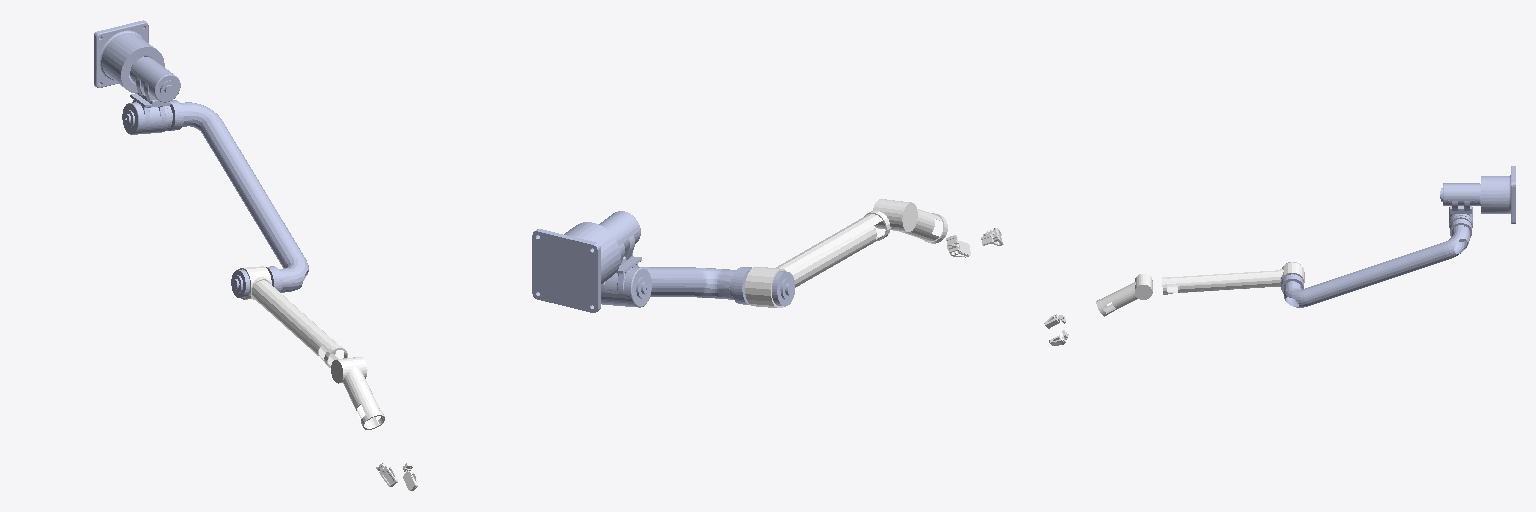
robot.urdf — starlink_space_manipulator_merged.SLDASM9:
<?xml version='1.0' encoding='utf-8'?>
<robot name="starlink_space_manipulator_merged.SLDASM9">
  <link name="starlink_space_manipulator_base_link">
    <inertial>
      <origin xyz="-0.00908719924946466 0.0225428225681148 -0.00851924929637313" rpy="0 0 0" />
      <mass value="8.66024015898073" />
      <inertia ixx="0.0960303512697639" ixy="1.65511904636803E-18" ixz="6.22039820639877E-19" iyy="0.103454922260914" iyz="-9.68471289978311E-19" izz="0.0960303512697639" />
    </inertial>
    <visual>
      <origin xyz="0 0 0" rpy="0 0 0" />
      <geometry>
        <mesh filename="meshes/starlink_space_manipulator_base_link.STL" />
      </geometry>
      <material name="">
        <color rgba="0.792156862745098 0.819607843137255 0.933333333333333 1" />
      </material>
    </visual>
    <collision>
      <origin xyz="0 0 0" rpy="0 0 0" />
      <geometry>
        <mesh filename="meshes/starlink_space_manipulator_base_link.STL" />
      </geometry>
    </collision>
  </link>
  <link name="starlink_space_manipulator_Shoulder_link_1">
    <inertial>
      <origin xyz="-0.000399471745595769 -0.100006574194712 -0.17423940484461" rpy="0 0 0" />
      <mass value="5.16309216784981" />
      <inertia ixx="0.0524543852135592" ixy="0.00348154867667969" ixz="6.96526910910627E-05" iyy="0.0306595326318824" iyz="-0.00056674368052247" izz="0.0439979075615329" />
    </inertial>
    <visual>
      <origin xyz="0 0 0" rpy="0 0 0" />
      <geometry>
        <mesh filename="meshes/starlink_space_manipulator_Shoulder_link_1.STL" />
      </geometry>
      <material name="">
        <color rgba="0.792156862745098 0.819607843137255 0.933333333333333 1" />
      </material>
    </visual>
    <collision>
      <origin xyz="0 0 0" rpy="0 0 0" />
      <geometry>
        <mesh filename="meshes/starlink_space_manipulator_Shoulder_link_1.STL" />
      </geometry>
    </collision>
  </link>
  <joint name="starlink_space_manipulator_Shoulder_link_1_yaw" type="revolute">
    <origin xyz="-0.0090872 -0.065 -0.0085192" rpy="1.5708 -0.15574 3.1416" />
    <parent link="starlink_space_manipulator_base_link" />
    <child link="starlink_space_manipulator_Shoulder_link_1" />
    <axis xyz="0 0 -1" />
    <limit lower="-3.14" upper="3.14" effort="0" velocity="0" />
  </joint>
  <link name="starlink_space_manipulator_Upper_arm_Link_1">
    <inertial>
      <origin xyz="0.402106341472203 -0.696465272634528 -0.170177523085579" rpy="0 0 0" />
      <mass value="5.05309869040685" />
      <inertia ixx="0.388719013133801" ixy="0.210155896498943" ixz="9.30829370680679E-08" iyy="0.146049057575642" iyz="1.71830458004218E-07" izz="0.500677708275447" />
    </inertial>
    <visual>
      <origin xyz="0 0 0" rpy="0 0 0" />
      <geometry>
        <mesh filename="meshes/starlink_space_manipulator_Upper_arm_Link_1.STL" />
      </geometry>
      <material name="">
        <color rgba="0.792156862745098 0.819607843137255 0.933333333333333 1" />
      </material>
    </visual>
    <collision>
      <origin xyz="0 0 0" rpy="0 0 0" />
      <geometry>
        <mesh filename="meshes/starlink_space_manipulator_Upper_arm_Link_1.STL" />
      </geometry>
    </collision>
  </link>
  <joint name="starlink_space_manipulator_Upper_arm_Link_1_roll" type="revolute">
    <origin xyz="0 -0.2 -0.18" rpy="1.5708 0.90646 1.5708" />
    <parent link="starlink_space_manipulator_Shoulder_link_1" />
    <child link="starlink_space_manipulator_Upper_arm_Link_1" />
    <axis xyz="0 0 -1" />
    <limit lower="-2" upper="1.5" effort="0" velocity="0" />
  </joint>
  <link name="starlink_space_manipulator_Mid_arm_Link_1">
    <inertial>
      <origin xyz="-0.000406052776441013 0.317722269561105 0.0155331755135703" rpy="0 0 0" />
      <mass value="1.57635531881168" />
      <inertia ixx="0.133610363618846" ixy="5.33750993405138E-05" ixz="-3.60473795202962E-09" iyy="0.00502119434334708" iyz="-2.514275749911E-05" izz="0.134586018527477" />
    </inertial>
    <visual>
      <origin xyz="0 0 0" rpy="0 0 0" />
      <geometry>
        <mesh filename="meshes/starlink_space_manipulator_Mid_arm_Link_1.STL" />
      </geometry>
      <material name="">
        <color rgba="1 1 1 1" />
      </material>
    </visual>
    <collision>
      <origin xyz="0 0 0" rpy="0 0 0" />
      <geometry>
        <mesh filename="meshes/starlink_space_manipulator_Mid_arm_Link_1.STL" />
      </geometry>
    </collision>
  </link>
  <joint name="starlink_space_manipulator_Mid_arm_Link_1_roll" type="revolute">
    <origin xyz="0.599999999999673 -1.03923048454122 0" rpy="-3.14159265358979 0 0.828250280535091" />
    <parent link="starlink_space_manipulator_Upper_arm_Link_1" />
    <child link="starlink_space_manipulator_Mid_arm_Link_1" />
    <axis xyz="0 0 -1" />
    <limit lower="-3.14" upper="3.14" effort="0" velocity="0" />
  </joint>
  <link name="starlink_space_manipulator_Upper_wrist_Link_1">
    <inertial>
      <origin xyz="-0.000400003664721815 -0.201565878030355 -0.00216705855311664" rpy="0 0 0" />
      <mass value="0.994770641034713" />
      <inertia ixx="0.00165409639029414" ixy="-7.59103925411082E-06" ixz="-3.17403155320863E-06" iyy="0.00201437937768072" iyz="2.63246464091218E-06" izz="0.00159638838344539" />
    </inertial>
    <visual>
      <origin xyz="0 0 0" rpy="0 0 0" />
      <geometry>
        <mesh filename="meshes/starlink_space_manipulator_Upper_wrist_Link_1.STL" />
      </geometry>
      <material name="">
        <color rgba="0.792156862745098 0.819607843137255 0.933333333333333 1" />
      </material>
    </visual>
    <collision>
      <origin xyz="0 0 0" rpy="0 0 0" />
      <geometry>
        <mesh filename="meshes/starlink_space_manipulator_Upper_wrist_Link_1.STL" />
      </geometry>
    </collision>
  </link>
  <joint name="starlink_space_manipulator_Upper_wrist_Link_1_yaw" type="revolute">
    <origin xyz="-0.00050155183276912 0.686793643713439 0.0155010481432086" rpy="0 -0.0763876794035917 3.14159265358979" />
    <parent link="starlink_space_manipulator_Mid_arm_Link_1" />
    <child link="starlink_space_manipulator_Upper_wrist_Link_1" />
    <axis xyz="0 -1 0" />
    <limit lower="-3.14" upper="3.14" effort="0" velocity="0" />
  </joint>
  <link name="starlink_space_manipulator_Upper_wrist_Link_2">
    <inertial>
      <origin xyz="8.45304168883843E-08 0.0848318719623631 -0.00515657391755576" rpy="0 0 0" />
      <mass value="1.03716823037577" />
      <inertia ixx="0.0100970561498589" ixy="1.32295633551837E-09" ixz="-9.43675929999229E-09" iyy="0.00222325407426665" iyz="-2.08772874866187E-06" izz="0.0105840577017538" />
    </inertial>
    <visual>
      <origin xyz="0 0 0" rpy="0 0 0" />
      <geometry>
        <mesh filename="meshes/starlink_space_manipulator_Upper_wrist_Link_2.STL" />
      </geometry>
      <material name="">
        <color rgba="1 1 1 1" />
      </material>
    </visual>
    <collision>
      <origin xyz="0 0 0" rpy="0 0 0" />
      <geometry>
        <mesh filename="meshes/starlink_space_manipulator_Upper_wrist_Link_2.STL" />
      </geometry>
    </collision>
  </link>
  <joint name="starlink_space_manipulator_Upper_wrist_Link_2_roll" type="revolute">
    <origin xyz="0 -0.30020635628656 0" rpy="-0.0158640776811277 -0.0317448426184613 -2.67805461574742" />
    <parent link="starlink_space_manipulator_Upper_wrist_Link_1" />
    <child link="starlink_space_manipulator_Upper_wrist_Link_2" />
    <axis xyz="0 0 1" />
    <limit lower="-2.5" upper="1.8" effort="0" velocity="0" />
  </joint>
  <link name="starlink__space_manipulator_2F-Body_Link">
    <inertial>
      <origin xyz="0.000132893636818288 -0.122912145301831 0.000141178527731878" rpy="0 0 0" />
      <mass value="2.06098061435798" />
      <inertia ixx="0.00357820981002093" ixy="-9.7173781739015E-06" ixz="-0.000377950837415894" iyy="0.00540179107539635" iyz="3.57093943209629E-06" izz="0.0050632324449311" />
    </inertial>
    <visual>
      <origin xyz="0 0 0" rpy="0 0 0" />
      <geometry>
        <mesh filename="meshes/starlink__space_manipulator_2F-Body_Link.STL" />
      </geometry>
      <material name="">
        <color rgba="0.792156862745098 0.819607843137255 0.933333333333333 1" />
      </material>
    </visual>
    <collision>
      <origin xyz="0 0 0" rpy="0 0 0" />
      <geometry>
        <mesh filename="meshes/starlink__space_manipulator_2F-Body_Link.STL" />
      </geometry>
    </collision>
  </link>
  <joint name="starlink__space_manipulator_2F-Body_Link_yaw" type="revolute">
    <origin xyz="0 0.34845 -0.0053813" rpy="-3.1416 0.93592 0" />
    <parent link="starlink_space_manipulator_Upper_wrist_Link_2" />
    <child link="starlink__space_manipulator_2F-Body_Link" />
    <axis xyz="0 -1 0" />
    <limit lower="-3.14" upper="3.14" effort="0" velocity="0" />
  </joint>
  <link name="starlink_space_manipulator_Finger1_2_Link">
    <inertial>
      <origin xyz="-0.128379781160824 0.00213384929263816 0.20765530277947" rpy="0 0 0" />
      <mass value="0.164012557851557" />
      <inertia ixx="0.000137377814382494" ixy="5.75324125943043E-07" ixz="1.56204374379134E-05" iyy="0.000128174497717794" iyz="2.8915711708103E-06" izz="5.56877077151319E-05" />
    </inertial>
    <visual>
      <origin xyz="0 0 0" rpy="0 0 0" />
      <geometry>
        <mesh filename="meshes/starlink_space_manipulator_Finger1_2_Link.STL" />
      </geometry>
      <material name="">
        <color rgba="1 1 1 1" />
      </material>
    </visual>
    <collision>
      <origin xyz="0 0 0" rpy="0 0 0" />
      <geometry>
        <mesh filename="meshes/starlink_space_manipulator_Finger1_2_Link.STL" />
      </geometry>
    </collision>
  </link>
  <joint name="starlink_space_manipulator_Finger1_2_Link_roll" type="prismatic">
    <origin xyz="-0.2017 -0.10916 -0.04801" rpy="-1.5708 0.22747 -3.1416" />
    <parent link="starlink__space_manipulator_2F-Body_Link" />
    <child link="starlink_space_manipulator_Finger1_2_Link" />
    <axis xyz="-1 0 0" />
    <limit lower="0.0" upper="0.04" effort="20" velocity="0" />
  </joint>
  <link name="starlink_space_manipulator_Finger2_1_Link">
    <inertial>
      <origin xyz="-0.128379783275286 0.0021338497374519 0.207655316264438" rpy="0 0 0" />
      <mass value="0.164012525176243" />
      <inertia ixx="0.000137377758573247" ixy="5.75327227385201E-07" ixz="1.56204303396715E-05" iyy="0.00012817444752134" iyz="2.89153901545968E-06" izz="5.5687711839857E-05" />
    </inertial>
    <visual>
      <origin xyz="0 0 0" rpy="0 0 0" />
      <geometry>
        <mesh filename="meshes/starlink_space_manipulator_Finger2_1_Link.STL" />
      </geometry>
      <material name="">
        <color rgba="1 1 1 1" />
      </material>
    </visual>
    <collision>
      <origin xyz="0 0 0" rpy="0 0 0" />
      <geometry>
        <mesh filename="meshes/starlink_space_manipulator_Finger2_1_Link.STL" />
      </geometry>
    </collision>
  </link>
  <joint name="starlink_space_manipulator_Finger2_1_Link_roll" type="prismatic">
    <origin xyz="0.20865 -0.10916 0.049619" rpy="1.5708 -0.22747 0" />
    <parent link="starlink__space_manipulator_2F-Body_Link" />
    <child link="starlink_space_manipulator_Finger2_1_Link" />
    <axis xyz="-1 0 0" />
    <limit lower="0.0" upper="0.04" effort="20" velocity="0" />
  </joint>
</robot>

--- Render facts (derived) ---
3 views of the same robot in one strip: view 1: azimuth 30°, elevation 25°; view 2: azimuth 150°, elevation 25°; view 3: azimuth 270°, elevation 25° (orthographic).
Model starlink_space_manipulator_merged.SLDASM9 with 9 links and 8 joints (6 revolute, 2 prismatic), rooted at starlink_space_manipulator_base_link, posed all joints at 0.
Links seen in each view (by area): view 1: starlink_space_manipulator_Upper_arm_Link_1, starlink_space_manipulator_Shoulder_link_1, starlink_space_manipulator_base_link, starlink_space_manipulator_Mid_arm_Link_1, starlink_space_manipulator_Upper_wrist_Link_2; view 2: starlink_space_manipulator_base_link, starlink_space_manipulator_Mid_arm_Link_1, starlink_space_manipulator_Upper_arm_Link_1, starlink_space_manipulator_Shoulder_link_1, starlink_space_manipulator_Upper_wrist_Link_2; view 3: starlink_space_manipulator_Upper_arm_Link_1, starlink_space_manipulator_Mid_arm_Link_1, starlink_space_manipulator_Shoulder_link_1, starlink_space_manipulator_base_link, starlink_space_manipulator_Upper_wrist_Link_2.
Boxes of the visible links, x1=… form: starlink_space_manipulator_Upper_arm_Link_1: x1=125, y1=102, x2=308, y2=297; starlink_space_manipulator_Shoulder_link_1: x1=122, y1=56, x2=183, y2=134; starlink_space_manipulator_base_link: x1=94, y1=20, x2=164, y2=93; starlink_space_manipulator_Mid_arm_Link_1: x1=238, y1=266, x2=347, y2=367; starlink_space_manipulator_Upper_wrist_Link_2: x1=331, y1=357, x2=384, y2=429; starlink_space_manipulator_base_link: x1=532, y1=222, x2=620, y2=312; starlink_space_manipulator_Mid_arm_Link_1: x1=745, y1=210, x2=890, y2=307; starlink_space_manipulator_Upper_arm_Link_1: x1=640, y1=267, x2=794, y2=306; starlink_space_manipulator_Shoulder_link_1: x1=599, y1=211, x2=651, y2=307; starlink_space_manipulator_Upper_wrist_Link_2: x1=873, y1=199, x2=947, y2=243; starlink_space_manipulator_Upper_arm_Link_1: x1=1281, y1=225, x2=1469, y2=307; starlink_space_manipulator_Mid_arm_Link_1: x1=1162, y1=262, x2=1304, y2=294; starlink_space_manipulator_Shoulder_link_1: x1=1440, y1=183, x2=1480, y2=237; starlink_space_manipulator_base_link: x1=1481, y1=166, x2=1515, y2=223; starlink_space_manipulator_Upper_wrist_Link_2: x1=1096, y1=274, x2=1152, y2=316.
Bounding box of the posed robot: 0.5961 × 3.11 × 1.3 m (x, y, z).
7 mesh visuals loaded from 9 distinct referenced files (7 binary STL); not drawn: 2 (reference not matched to a file when rendering).
